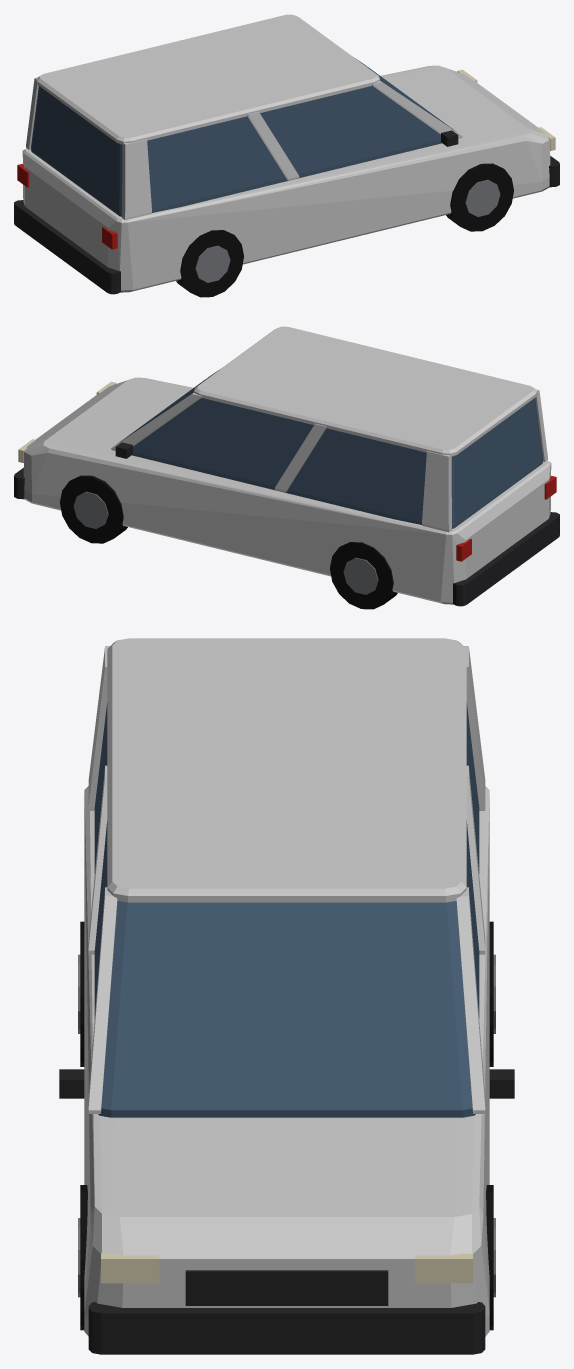
The model's file is car_van.obj.
3 views of the same model, one above another, from view 1: azimuth 30°, elevation 25°; view 2: azimuth 150°, elevation 25°; view 3: azimuth 270°, elevation 25° (orthographic). The views are drawn at different scales.
Bounding box in the file's own units: 5.02 × 1.82 × 2.19.
